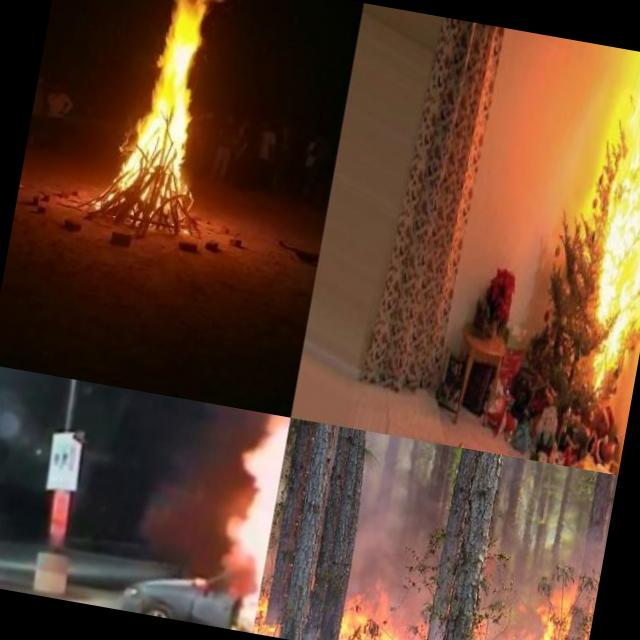fire: (110, 0, 237, 203), (571, 67, 640, 397), (200, 408, 290, 633), (486, 574, 577, 640), (338, 585, 408, 640), (252, 552, 276, 634)
smoke: (342, 431, 433, 592)
